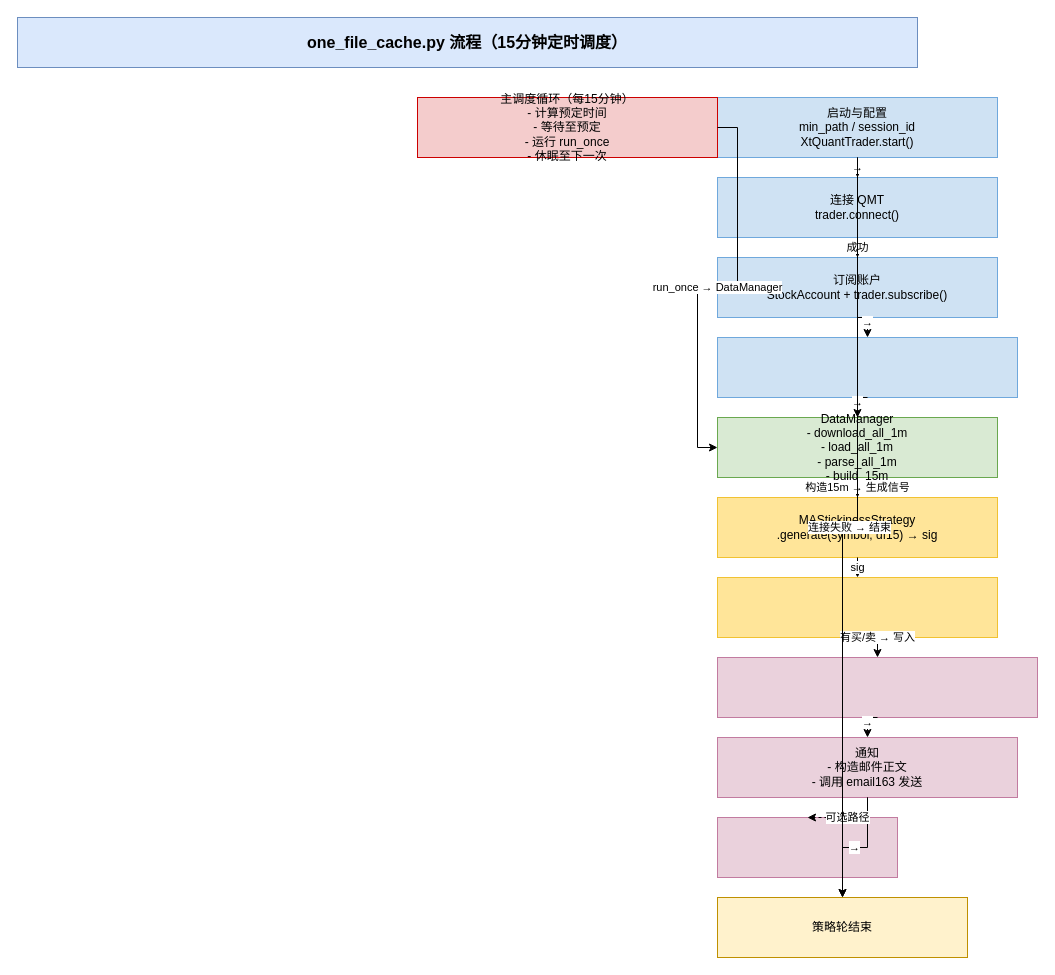
Image size: 1055x975. Some labels were removed from this diagram. The shapes that lost their labels are listed below. From the top down, each one's box as (x1, y1, x2, y2) in pixels, then its label:
(716, 336, 1018, 398): 板块数据 xtdata.get_client() → down_all_sector_data() get_sector_list()
(716, 576, 998, 638): 信号处理 - 打印买/卖 - 追加到 cycle_signals
(716, 656, 1038, 718): 输出与持久化 signals.json（覆盖，仅本轮信号）
(716, 816, 898, 878): 可选短信 send_sms / send_sms_batch
